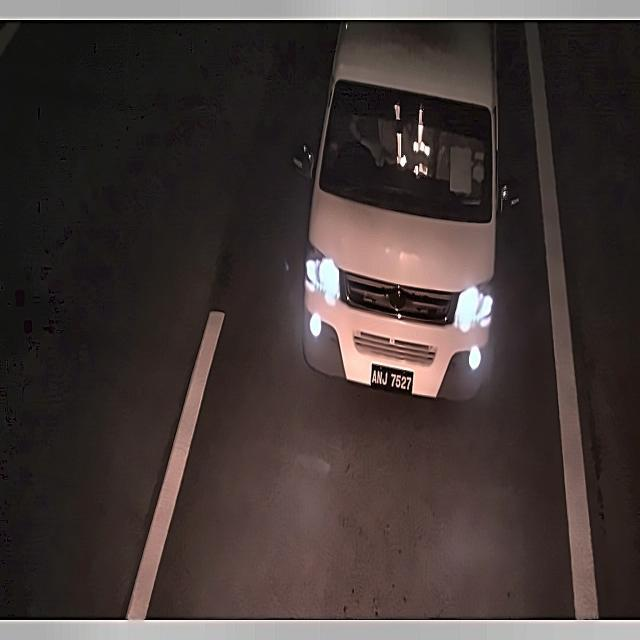car: (364, 350, 421, 402)
